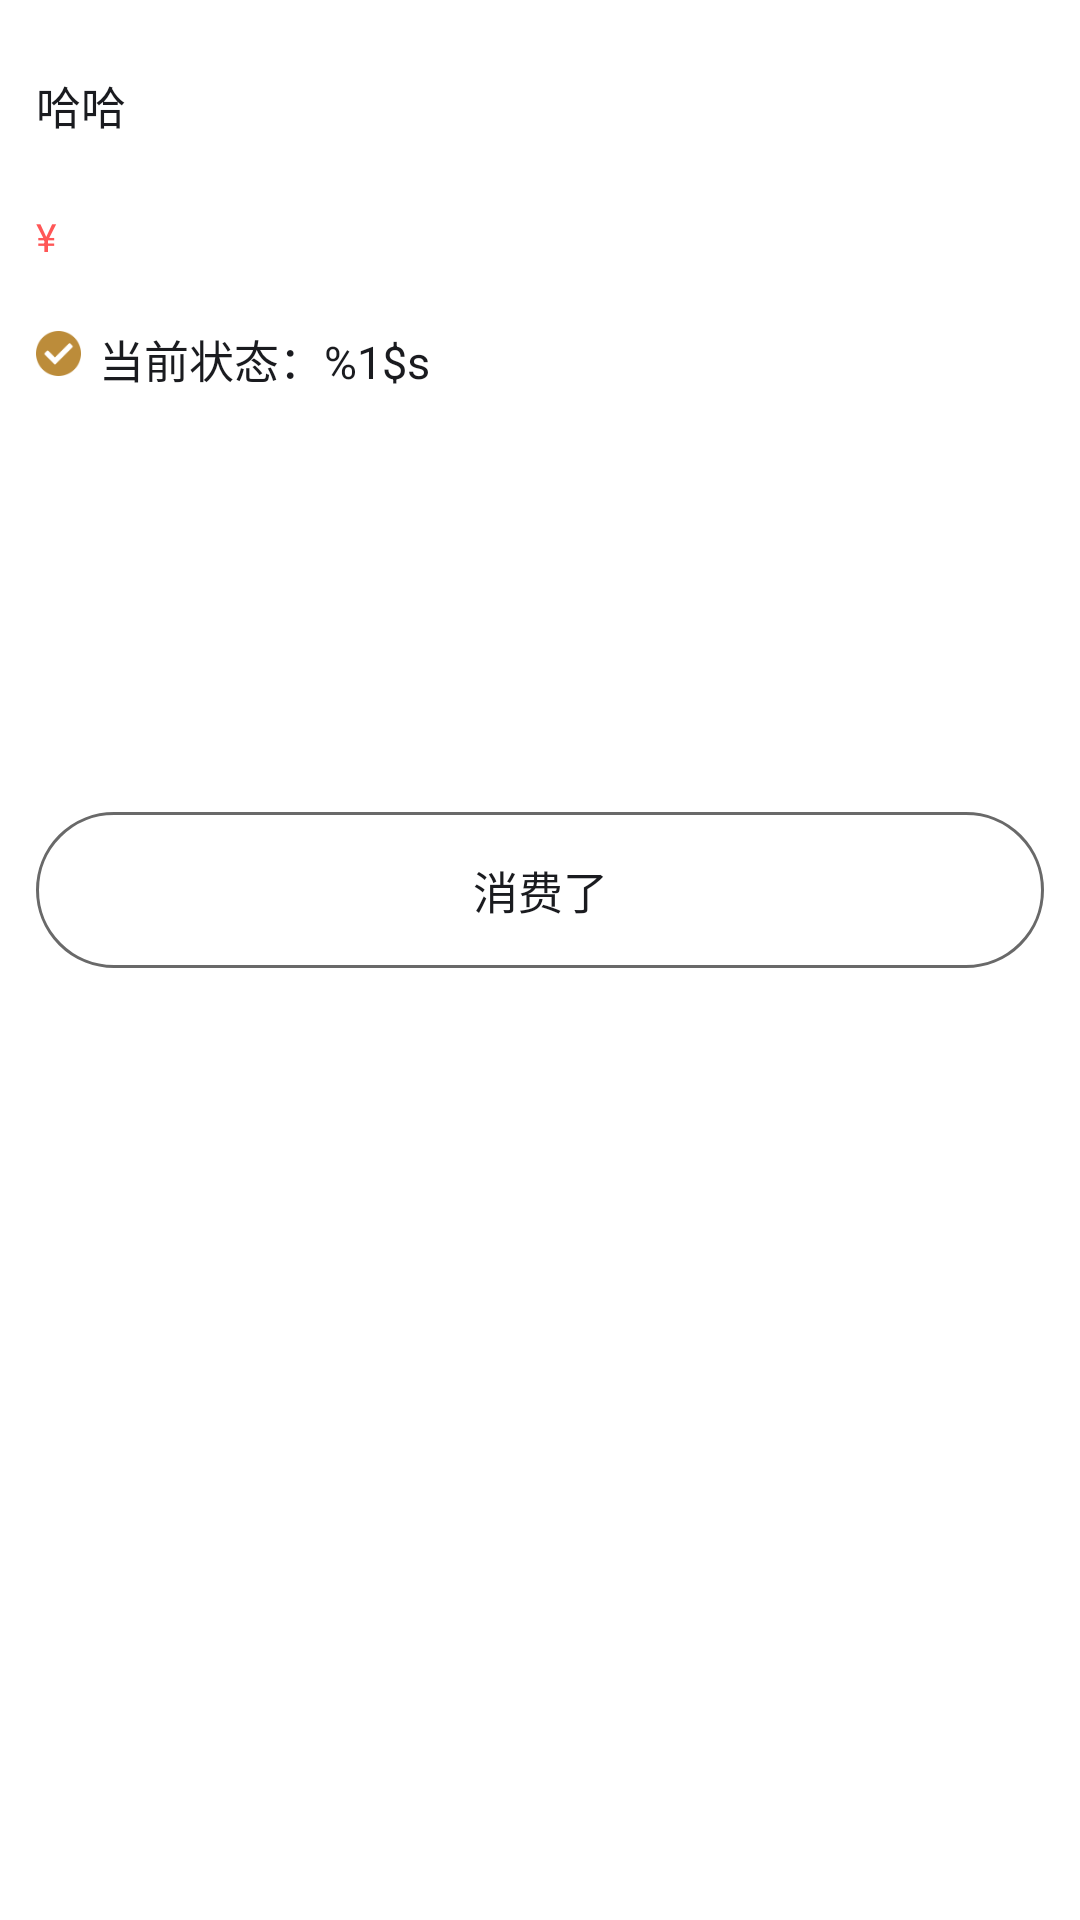

Icons on this 1080 × 1920 Android screen, each with its box as detection(x1, y1, x2, y2):
yes: detection(36, 331, 81, 376)
